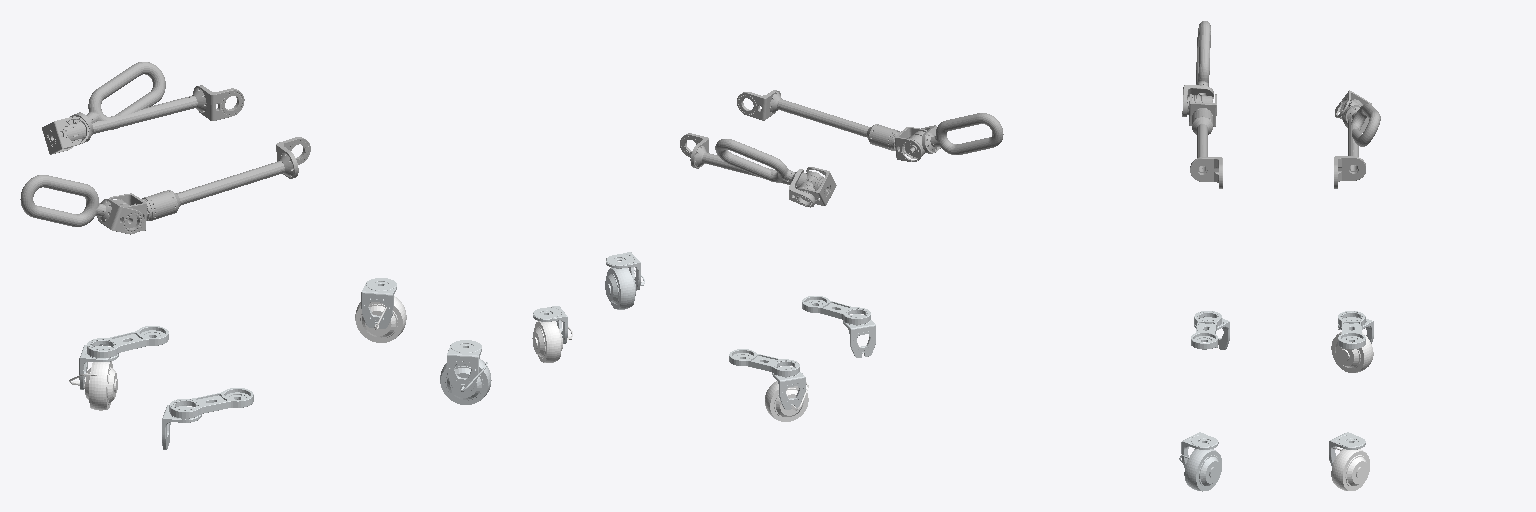
robot.urdf — ia_robot:
<?xml version="1.0" encoding="utf-8"?>
<!-- This URDF was automatically created by SolidWorks to URDF Exporter! Originally created by [author] ([email redacted]) 
     Commit Version: 1.6.0-4-g7f85cfe  Build Version: 1.6.7995.38578
     For more information, please see http://wiki.ros.org/sw_urdf_exporter -->
<robot
  name="ia_robot">
  <link
    name="base_link">
    <inertial>
      <origin
        xyz="0.18038 -0.0015014 0.55466"
        rpy="0 0 0" />
      <mass
        value="40" />
      <inertia
        ixx="0.10843"
        ixy="-6.4739E-06"
        ixz="0.00065952"
        iyy="0.095409"
        iyz="-0.00012632"
        izz="0.0959" />
    </inertial>
    <visual>
      <origin
        xyz="0 0 0"
        rpy="0 0 0" />
      <geometry>
        <mesh
          filename="package://ia_robot/meshes/base_link_new.stl" />
      </geometry>
      <material
        name="">
        <color
          rgba="0.75294 0.75294 0.75294 1" />
      </material>
    </visual>
    <collision>
      <origin
        xyz="0 0 0"
        rpy="0 0 0" />
      <geometry>
        <mesh
          filename="package://ia_robot/meshes/base_link_new.stl" />
      </geometry>
    </collision>
  </link>
  <link
    name="right_back_turn">
    <inertial>
      <origin
        xyz="-0.023257 -0.02638 -0.019921"
        rpy="0 0 0" />
      <mass
        value="0.2" />
      <inertia
        ixx="0.00046931"
        ixy="-2.4683E-05"
        ixz="-8.6444E-05"
        iyy="0.00046307"
        iyz="-9.8051E-05"
        izz="0.00040411" />
    </inertial>
    <visual>
      <origin
        xyz="0 0 0"
        rpy="0 0 0" />
      <geometry>
        <mesh
          filename="package://ia_robot/meshes/right_back_turn.stl" />
      </geometry>
      <material
        name="">
        <color
          rgba="0.89804 0.91765 0.92941 1" />
      </material>
    </visual>
    <collision>
      <origin
        xyz="0 0 0"
        rpy="0 0 0" />
      <geometry>
        <mesh
          filename="package://ia_robot/meshes/right_back_turn.stl" />
      </geometry>
    </collision>
  </link>
  <joint
    name="right_back_turn"
    type="continuous">
    <origin
      xyz="0.5 0.2635 0.181"
      rpy="0 0 0" />
    <parent
      link="base_link" />
    <child
      link="right_back_turn" />
    <axis
      xyz="0 0 -1" />
  </joint>
  <link
    name="right_back_rotate">
    <inertial>
      <origin
        xyz="7.7687E-05 0.00017093 0.027435"
        rpy="0 0 0" />
      <mass
        value="5" />
      <inertia
        ixx="0.0024638"
        ixy="-7.1305E-06"
        ixz="-5.047E-06"
        iyy="0.0024513"
        iyz="-1.1105E-05"
        izz="0.0035968" />
    </inertial>
    <visual>
      <origin
        xyz="0 0 0"
        rpy="0 0 0" />
      <geometry>
        <mesh
          filename="package://ia_robot/meshes/right_back_rotate.stl" />
      </geometry>
      <material
        name="">
        <color
          rgba="1 1 1 1" />
      </material>
    </visual>
    <collision>
      <origin
        xyz="0 0 0"
        rpy="0 0 0" />
      <geometry>
        <mesh
          filename="package://ia_robot/meshes/right_back_rotate.stl" />
      </geometry>
    </collision>
  </link>
  <joint
    name="right_back_rotate"
    type="continuous">
    <origin
      xyz="0.014549 0.016502 -0.101"
      rpy="1.5708 0 -0.72257" />
    <parent
      link="right_back_turn" />
    <child
      link="right_back_rotate" />
    <axis
      xyz="0 0 -1" />
  </joint>
  <link
    name="left_back_turn">
    <inertial>
      <origin
        xyz="-0.022078 -0.027374 -0.019921"
        rpy="0 0 0" />
      <mass
        value="0.2" />
      <inertia
        ixx="0.00047146"
        ixy="-2.4315E-05"
        ixz="-8.2062E-05"
        iyy="0.00046092"
        iyz="-0.00010175"
        izz="0.00040411" />
    </inertial>
    <visual>
      <origin
        xyz="0 0 0"
        rpy="0 0 0" />
      <geometry>
        <mesh
          filename="package://ia_robot/meshes/left_back_turn.stl" />
      </geometry>
      <material
        name="">
        <color
          rgba="0.89804 0.91765 0.92941 1" />
      </material>
    </visual>
    <collision>
      <origin
        xyz="0 0 0"
        rpy="0 0 0" />
      <geometry>
        <mesh
          filename="package://ia_robot/meshes/left_back_turn.stl" />
      </geometry>
    </collision>
  </link>
  <joint
    name="left_back_turn"
    type="continuous">
    <origin
      xyz="0.5 -0.2635 0.181"
      rpy="0 0 0" />
    <parent
      link="base_link" />
    <child
      link="left_back_turn" />
    <axis
      xyz="0 0 -1" />
  </joint>
  <link
    name="left_back_rotate">
    <inertial>
      <origin
        xyz="-2.8162E-09 0.081079 0.057168"
        rpy="0 0 0" />
      <mass
        value="5" />
      <inertia
        ixx="0.00049107"
        ixy="-6.2566E-11"
        ixz="1.1975E-11"
        iyy="0.00040411"
        iyz="0.00013072"
        izz="0.00044131" />
    </inertial>
    <visual>
      <origin
        xyz="0 0 0"
        rpy="0 0 0" />
      <geometry>
        <mesh
          filename="package://ia_robot/meshes/left_back_rotate.stl" />
      </geometry>
      <material
        name="">
        <color
          rgba="0.89804 0.91765 0.92941 1" />
      </material>
    </visual>
    <collision>
      <origin
        xyz="0 0 0"
        rpy="0 0 0" />
      <geometry>
        <mesh
          filename="package://ia_robot/meshes/left_back_rotate.stl" />
      </geometry>
    </collision>
  </link>
  <joint
    name="left_back_rotate"
    type="continuous">
    <origin
      xyz="0.013811 0.017124 -0.101"
      rpy="1.5708 0 -0.67872" />
    <parent
      link="left_back_turn" />
    <child
      link="left_back_rotate" />
    <axis
      xyz="0 0 -1" />
  </joint>
  <link
    name="right_front_turn2">
    <inertial>
      <origin
        xyz="0.077388 -0.00042576 0.00053295"
        rpy="0 0 0" />
      <mass
        value="1" />
      <inertia
        ixx="0.00022184"
        ixy="8.1766E-06"
        ixz="4.2116E-05"
        iyy="0.001708"
        iyz="-2.3171E-07"
        izz="0.0019081" />
    </inertial>
    <visual>
      <origin
        xyz="0 0 0"
        rpy="0 0 0" />
      <geometry>
        <mesh
          filename="package://ia_robot/meshes/right_front_turn2.stl" />
      </geometry>
      <material
        name="">
        <color
          rgba="0.89804 0.91765 0.92941 1" />
      </material>
    </visual>
    <collision>
      <origin
        xyz="0 0 0"
        rpy="0 0 0" />
      <geometry>
        <mesh
          filename="package://ia_robot/meshes/right_front_turn2.stl" />
      </geometry>
    </collision>
  </link>
  <joint
    name="right_front_turn2"
    type="continuous">
    <origin
      xyz="-0.32 0.2635 0.2061"
      rpy="-3.1416 0 3.1416" />
    <parent
      link="base_link" />
    <child
      link="right_front_turn2" />
    <axis
      xyz="0 0 -1" />
  </joint>
  <link
    name="right_front_turn1">
    <inertial>
      <origin
        xyz="-0.027585 0.021815 -0.019921"
        rpy="0 0 0" />
      <mass
        value="0.2092" />
      <inertia
        ixx="0.00046046"
        ixy="2.4209E-05"
        ixz="-0.00010253"
        iyy="0.00047192"
        iyz="8.1083E-05"
        izz="0.00040411" />
    </inertial>
    <visual>
      <origin
        xyz="0 0 0"
        rpy="0 0 0" />
      <geometry>
        <mesh
          filename="package://ia_robot/meshes/right_front_turn1.stl" />
      </geometry>
      <material
        name="">
        <color
          rgba="0.89804 0.91765 0.92941 1" />
      </material>
    </visual>
    <collision>
      <origin
        xyz="0 0 0"
        rpy="0 0 0" />
      <geometry>
        <mesh
          filename="package://ia_robot/meshes/right_front_turn1.stl" />
      </geometry>
    </collision>
  </link>
  <joint
    name="right_front_turn1"
    type="continuous">
    <origin
      xyz="0.18 -0.00099028 0.0251"
      rpy="-3.1416 0 3.1416" />
    <parent
      link="right_front_turn2" />
    <child
      link="right_front_turn1" />
    <axis
      xyz="0 0 -1" />
  </joint>
  <link
    name="right_front_rotate">
    <inertial>
      <origin
        xyz="-0.00013528 -0.0001302 0.027435"
        rpy="0 0 0" />
      <mass
        value="5" />
      <inertia
        ixx="0.0024572"
        ixy="-9.458E-06"
        ixz="8.7888E-06"
        iyy="0.0024579"
        iyz="8.4584E-06"
        izz="0.0035968" />
    </inertial>
    <visual>
      <origin
        xyz="0 0 0"
        rpy="0 0 0" />
      <geometry>
        <mesh
          filename="package://ia_robot/meshes/right_front_rotate.stl" />
      </geometry>
      <material
        name="">
        <color
          rgba="1 1 1 1" />
      </material>
    </visual>
    <collision>
      <origin
        xyz="0 0 0"
        rpy="0 0 0" />
      <geometry>
        <mesh
          filename="package://ia_robot/meshes/right_front_rotate.stl" />
      </geometry>
    </collision>
  </link>
  <joint
    name="right_front_rotate"
    type="continuous">
    <origin
      xyz="0.017256 -0.013647 -0.101"
      rpy="-1.5708 0 0.90167" />
    <parent
      link="right_front_turn1" />
    <child
      link="right_front_rotate" />
    <axis
      xyz="0 0 -1" />
  </joint>
  <link
    name="left_front_turn2">
    <inertial>
      <origin
        xyz="-0.077197 0.005447 -0.00053295"
        rpy="0 0 0" />
      <mass
        value="1" />
      <inertia
        ixx="0.00022915"
        ixy="0.00010435"
        ixz="4.2012E-05"
        iyy="0.0017007"
        iyz="-2.9644E-06"
        izz="0.0019081" />
    </inertial>
    <visual>
      <origin
        xyz="0 0 0"
        rpy="0 0 0" />
      <geometry>
        <mesh
          filename="package://ia_robot/meshes/left_front_turn2.stl" />
      </geometry>
      <material
        name="">
        <color
          rgba="0.89804 0.91765 0.92941 1" />
      </material>
    </visual>
    <collision>
      <origin
        xyz="0 0 0"
        rpy="0 0 0" />
      <geometry>
        <mesh
          filename="package://ia_robot/meshes/left_front_turn2.stl" />
      </geometry>
    </collision>
  </link>
  <joint
    name="left_front_turn2"
    type="continuous">
    <origin
      xyz="-0.32 -0.2635 0.2061"
      rpy="0 0 0" />
    <parent
      link="base_link" />
    <child
      link="left_front_turn2" />
    <axis
      xyz="0 0 1" />
  </joint>
  <link
    name="left_front_turn1">
    <inertial>
      <origin
        xyz="-0.027412 0.022032 -0.019921"
        rpy="0 0 0" />
      <mass
        value="0.2092" />
      <inertia
        ixx="0.00046084"
        ixy="2.4297E-05"
        ixz="-0.00010189"
        iyy="0.00047154"
        iyz="8.1888E-05"
        izz="0.00040411" />
    </inertial>
    <visual>
      <origin
        xyz="0 0 0"
        rpy="0 0 0" />
      <geometry>
        <mesh
          filename="package://ia_robot/meshes/left_front_turn1.stl" />
      </geometry>
      <material
        name="">
        <color
          rgba="0.89804 0.91765 0.92941 1" />
      </material>
    </visual>
    <collision>
      <origin
        xyz="0 0 0"
        rpy="0 0 0" />
      <geometry>
        <mesh
          filename="package://ia_robot/meshes/left_front_turn1.stl" />
      </geometry>
    </collision>
  </link>
  <joint
    name="left_front_turn1"
    type="continuous">
    <origin
      xyz="-0.17955 0.012669 -0.0251"
      rpy="0 0 0" />
    <parent
      link="left_front_turn2" />
    <child
      link="left_front_turn1" />
    <axis
      xyz="0 0 -1" />
  </joint>
  <link
    name="left_front_rotate">
    <inertial>
      <origin
        xyz="0.00013528 0.0001302 0.027435"
        rpy="0 0 0" />
      <mass
        value="5" />
      <inertia
        ixx="0.0024572"
        ixy="-9.458E-06"
        ixz="-8.7888E-06"
        iyy="0.0024579"
        iyz="-8.4584E-06"
        izz="0.0035968" />
    </inertial>
    <visual>
      <origin
        xyz="0 0 0"
        rpy="0 0 0" />
      <geometry>
        <mesh
          filename="package://ia_robot/meshes/left_front_rotate.stl" />
      </geometry>
      <material
        name="">
        <color
          rgba="1 1 1 1" />
      </material>
    </visual>
    <collision>
      <origin
        xyz="0 0 0"
        rpy="0 0 0" />
      <geometry>
        <mesh
          filename="package://ia_robot/meshes/left_front_rotate.stl" />
      </geometry>
    </collision>
  </link>
  <joint
    name="left_front_rotate"
    type="continuous">
    <origin
      xyz="0.017148 -0.013782 -0.101"
      rpy="1.5708 0 -2.2478" />
    <parent
      link="left_front_turn1" />
    <child
      link="left_front_rotate" />
    <axis
      xyz="0 0 -1" />
  </joint>
  <link
    name="central_joint">
    <inertial>
      <origin
        xyz="0.046107 -0.0068668 0.17563"
        rpy="0 0 0" />
      <mass
        value="2" />
      <inertia
        ixx="0.0013326"
        ixy="0.00035164"
        ixz="1.1868E-14"
        iyy="0.0036412"
        iyz="8.0168E-14"
        izz="0.0047248" />
    </inertial>
    <visual>
      <origin
        xyz="0 0 0"
        rpy="0 0 0" />
      <geometry>
        <mesh
          filename="package://ia_robot/meshes/central_joint.stl" />
      </geometry>
      <material
        name="">
        <color
          rgba="0.75294 0.75294 0.75294 1" />
      </material>
    </visual>
    <collision>
      <origin
        xyz="0 0 0"
        rpy="0 0 0" />
      <geometry>
        <mesh
          filename="package://ia_robot/meshes/central_joint.stl" />
      </geometry>
    </collision>
  </link>
  <joint
    name="central_joint"
    type="continuous">
    <origin
      xyz="0.12 -0.17563 1"
      rpy="1.5708 0 3.1416" />
    <parent
      link="base_link" />
    <child
      link="central_joint" />
    <axis
      xyz="0 0 -1" />
  </joint>
  <link
    name="left_joint2">
    <inertial>
      <origin
        xyz="-0.20187 -0.013769 0.041537"
        rpy="0 0 0" />
      <mass
        value="1.5" />
      <inertia
        ixx="0.00057175"
        ixy="-7.2991E-05"
        ixz="0.00011078"
        iyy="0.0016326"
        iyz="7.8567E-06"
        izz="0.0015727" />
    </inertial>
    <visual>
      <origin
        xyz="0 0 0"
        rpy="0 0 0" />
      <geometry>
        <mesh
          filename="package://ia_robot/meshes/left_joint2.stl" />
      </geometry>
      <material
        name="">
        <color
          rgba="0.75294 0.75294 0.75294 1" />
      </material>
    </visual>
    <collision>
      <origin
        xyz="0 0 0"
        rpy="0 0 0" />
      <geometry>
        <mesh
          filename="package://ia_robot/meshes/left_joint2.stl" />
      </geometry>
    </collision>
  </link>
  <joint
    name="left_joint2"
    type="continuous">
    <origin
      xyz="0.19287 -0.028726 -0.0358"
      rpy="-3.1416 0 3.1416" />
    <parent
      link="central_joint" />
    <child
      link="left_joint2" />
    <axis
      xyz="0 0 1" />
  </joint>
  <link
    name="left_joint3">
    <inertial>
      <origin
        xyz="-0.00086226 2.9323E-05 -0.021114"
        rpy="0 0 0" />
      <mass
        value="1" />
      <inertia
        ixx="0.00021167"
        ixy="2.7958E-06"
        ixz="-1.1066E-05"
        iyy="0.00028182"
        iyz="3.9014E-07"
        izz="0.00028636" />
    </inertial>
    <visual>
      <origin
        xyz="0 0 0"
        rpy="0 0 0" />
      <geometry>
        <mesh
          filename="package://ia_robot/meshes/left_joint3.stl" />
      </geometry>
      <material
        name="">
        <color
          rgba="0.75294 0.75294 0.75294 1" />
      </material>
    </visual>
    <collision>
      <origin
        xyz="0 0 0"
        rpy="0 0 0" />
      <geometry>
        <mesh
          filename="package://ia_robot/meshes/left_joint3.stl" />
      </geometry>
    </collision>
  </link>
  <joint
    name="left_joint3"
    type="continuous">
    <origin
      xyz="-0.6041 -0.041203 0.0592"
      rpy="0.0681 1.5708 0" />
    <parent
      link="left_joint2" />
    <child
      link="left_joint3" />
    <axis
      xyz="0 0 -1" />
  </joint>
  <link
    name="left_joint4">
    <inertial>
      <origin
        xyz="0.12398 0.036321 0.038483"
        rpy="0 0 0" />
      <mass
        value="1" />
      <inertia
        ixx="0.00066488"
        ixy="-0.00023186"
        ixz="-5.7043E-05"
        iyy="0.0013883"
        iyz="-3.6165E-05"
        izz="0.0016805" />
    </inertial>
    <visual>
      <origin
        xyz="0 0 0"
        rpy="0 0 0" />
      <geometry>
        <mesh
          filename="package://ia_robot/meshes/left_joint4.stl" />
      </geometry>
      <material
        name="">
        <color
          rgba="0.75294 0.75294 0.75294 1" />
      </material>
    </visual>
    <collision>
      <origin
        xyz="0 0 0"
        rpy="0 0 0" />
      <geometry>
        <mesh
          filename="package://ia_robot/meshes/left_joint4.stl" />
      </geometry>
    </collision>
  </link>
  <joint
    name="left_joint4"
    type="continuous">
    <origin
      xyz="-0.056454 0.0022711 -0.064"
      rpy="1.5708 1.5026 1.5306" />
    <parent
      link="left_joint3" />
    <child
      link="left_joint4" />
    <axis
      xyz="0 0 1" />
  </joint>
  <link
    name="right_joint2">
    <inertial>
      <origin
        xyz="0.20233 -0.0023768 0.041537"
        rpy="0 0 0" />
      <mass
        value="1.5" />
      <inertia
        ixx="0.0005669"
        ixy="1.228E-05"
        ixz="-0.00011106"
        iyy="0.0016374"
        iyz="1.0046E-06"
        izz="0.0015727" />
    </inertial>
    <visual>
      <origin
        xyz="0 0 0"
        rpy="0 0 0" />
      <geometry>
        <mesh
          filename="package://ia_robot/meshes/right_joint2.stl" />
      </geometry>
      <material
        name="">
        <color
          rgba="0.75294 0.75294 0.75294 1" />
      </material>
    </visual>
    <collision>
      <origin
        xyz="0 0 0"
        rpy="0 0 0" />
      <geometry>
        <mesh
          filename="package://ia_robot/meshes/right_joint2.stl" />
      </geometry>
    </collision>
  </link>
  <joint
    name="right_joint2"
    type="continuous">
    <origin
      xyz="0.19287 -0.028725 0.38706"
      rpy="0 0 0" />
    <parent
      link="central_joint" />
    <child
      link="right_joint2" />
    <axis
      xyz="0 0 1" />
  </joint>
  <link
    name="right_joint3">
    <inertial>
      <origin
        xyz="0.0007133 0.00048552 -0.021114"
        rpy="0 0 0" />
      <mass
        value="1" />
      <inertia
        ixx="0.00023347"
        ixy="-3.2581E-05"
        ixz="9.1612E-06"
        iyy="0.00026002"
        iyz="6.2196E-06"
        izz="0.00028636" />
    </inertial>
    <visual>
      <origin
        xyz="0 0 0"
        rpy="0 0 0" />
      <geometry>
        <mesh
          filename="package://ia_robot/meshes/right_joint3.stl" />
      </geometry>
      <material
        name="">
        <color
          rgba="0.75294 0.75294 0.75294 1" />
      </material>
    </visual>
    <collision>
      <origin
        xyz="0 0 0"
        rpy="0 0 0" />
      <geometry>
        <mesh
          filename="package://ia_robot/meshes/right_joint3.stl" />
      </geometry>
    </collision>
  </link>
  <joint
    name="right_joint3"
    type="continuous">
    <origin
      xyz="0.60546 -0.0071123 0.0592"
      rpy="3.1298 -1.5708 0" />
    <parent
      link="right_joint2" />
    <child
      link="right_joint3" />
    <axis
      xyz="0 0 -1" />
  </joint>
  <link
    name="right_joint4">
    <inertial>
      <origin
        xyz="-0.12299 -0.039531 0.038483"
        rpy="0 0 0" />
      <mass
        value="1" />
      <inertia
        ixx="0.00067742"
        ixy="-0.00025034"
        ixz="5.6084E-05"
        iyy="0.0013758"
        iyz="3.7636E-05"
        izz="0.0016805" />
    </inertial>
    <visual>
      <origin
        xyz="0 0 0"
        rpy="0 0 0" />
      <geometry>
        <mesh
          filename="package://ia_robot/meshes/right_joint4.stl" />
      </geometry>
      <material
        name="">
        <color
          rgba="0.75294 0.75294 0.75294 1" />
      </material>
    </visual>
    <collision>
      <origin
        xyz="0 0 0"
        rpy="0 0 0" />
      <geometry>
        <mesh
          filename="package://ia_robot/meshes/right_joint4.stl" />
      </geometry>
    </collision>
  </link>
  <joint
    name="right_joint4"
    type="continuous">
    <origin
      xyz="0.046902 0.031503 -0.064"
      rpy="1.5708 -1.5566 -0.97933" />
    <parent
      link="right_joint3" />
    <child
      link="right_joint4" />
    <axis
      xyz="0 0 1" />
  </joint>
</robot>

--- What the picture shows (computed from the rendered views, not written in the file) ---
The picture shows the robot from 3 angles, left to right: view 1: azimuth 30°, elevation 25°; view 2: azimuth 150°, elevation 25°; view 3: azimuth 270°, elevation 25°; orthographic projection.
Model ia_robot with 18 links and 17 joints (17 continuous), rooted at base_link, posed all joints at 0.
Links seen in each view (by area): view 1: left_joint4, left_joint2, right_joint2, right_joint4, left_front_turn2, right_front_turn2, right_front_rotate, left_back_rotate, right_back_rotate, right_back_turn, left_back_turn, right_joint3 (+1 smaller); view 2: left_joint2, right_joint4, left_joint4, right_joint2, left_back_rotate, right_back_rotate, right_front_turn2, left_front_turn2, right_front_rotate, left_joint3, right_joint3, left_front_turn1 (+3 smaller); view 3: left_joint2, right_back_rotate, left_back_rotate, left_joint4, right_joint2, right_joint4, right_front_rotate, left_front_turn2, right_front_turn2, left_back_turn, right_back_turn, left_joint3.
Boxes of the visible links, x1,y1,x2,y2 form: left_joint4: (20, 175, 143, 234); left_joint2: (142, 137, 310, 220); right_joint2: (49, 85, 244, 143); right_joint4: (70, 62, 165, 131); left_front_turn2: (169, 388, 253, 418); right_front_turn2: (87, 326, 168, 357); right_front_rotate: (69, 361, 117, 410); left_back_rotate: (440, 359, 491, 404); right_back_rotate: (355, 296, 406, 342); right_back_turn: (361, 278, 396, 328); left_back_turn: (447, 340, 481, 390); right_joint3: (42, 116, 88, 154); left_joint2: (737, 90, 903, 150); right_joint4: (715, 139, 815, 207); left_joint4: (921, 113, 1003, 154); right_joint2: (680, 133, 829, 193); left_back_rotate: (605, 268, 644, 309); right_back_rotate: (532, 320, 572, 362); right_front_turn2: (729, 349, 799, 376); left_front_turn2: (802, 296, 870, 324); right_front_rotate: (765, 381, 808, 421); left_joint3: (895, 127, 926, 161); right_joint3: (797, 167, 836, 205); left_front_turn1: (843, 314, 875, 357); left_joint2: (1190, 108, 1222, 188); right_back_rotate: (1329, 447, 1369, 490); left_back_rotate: (1179, 449, 1221, 491); left_joint4: (1182, 21, 1213, 116); right_joint2: (1334, 99, 1365, 188); right_joint4: (1345, 104, 1380, 146); right_front_rotate: (1331, 328, 1373, 372); left_front_turn2: (1191, 311, 1221, 349); right_front_turn2: (1338, 311, 1365, 349); left_back_turn: (1181, 432, 1218, 467); right_back_turn: (1329, 432, 1365, 465); left_joint3: (1187, 94, 1216, 126).
Bounding box of the posed robot: 1.67 × 0.7214 × 1.13 m (x, y, z).
Meshes: 18 distinct files referenced, 15 mesh visuals loaded (15 binary STL); not drawn: 3 (reference not matched to a file when rendering).